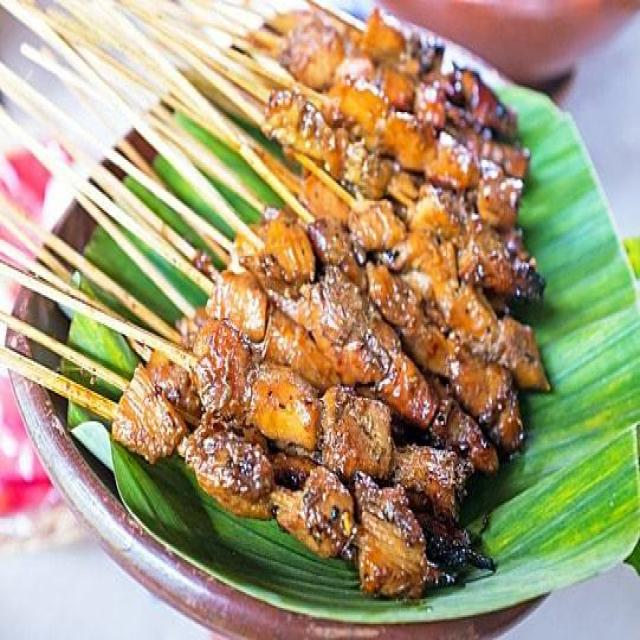Sate: (12, 18, 554, 576)
